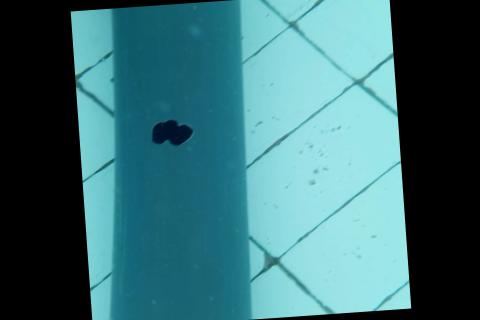kebocoran: (145, 116, 196, 150)
